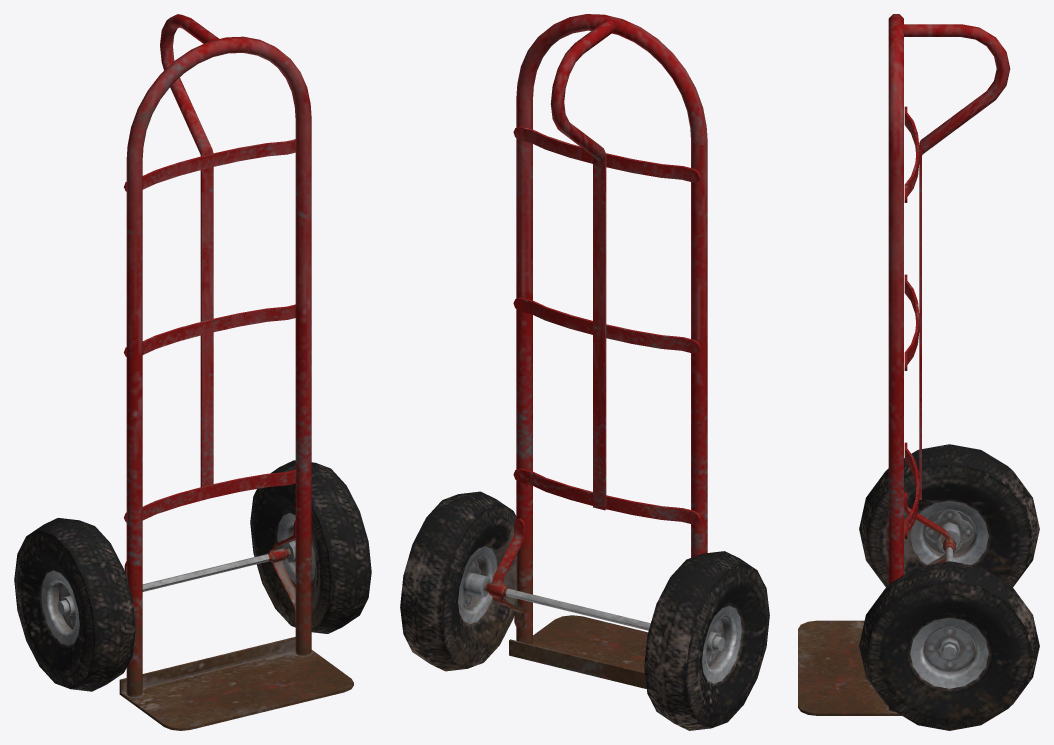
The model's file is sm22_035_handtruck01a.fbx.
The picture shows the model from 3 angles, left to right: view 1: azimuth 30°, elevation 25°; view 2: azimuth 150°, elevation 25°; view 3: azimuth 270°, elevation 25°; orthographic projection. The views are drawn at different scales.
Parts seen in each view (by area): view 1: LOD_1_Group_0_Sub_1__sm22_035_HandTruck01A_A_Mat; view 2: LOD_1_Group_0_Sub_1__sm22_035_HandTruck01A_A_Mat; view 3: LOD_1_Group_0_Sub_1__sm22_035_HandTruck01A_A_Mat.
Part boxes in pixels (left/top/right/bottom): LOD_1_Group_0_Sub_1__sm22_035_HandTruck01A_A_Mat: left=14, top=14, right=371, bottom=730; LOD_1_Group_0_Sub_1__sm22_035_HandTruck01A_A_Mat: left=400, top=14, right=769, bottom=730; LOD_1_Group_0_Sub_1__sm22_035_HandTruck01A_A_Mat: left=798, top=14, right=1039, bottom=730.
Bounding box in the file's own units: 0.6031 × 1.29 × 0.4395.
